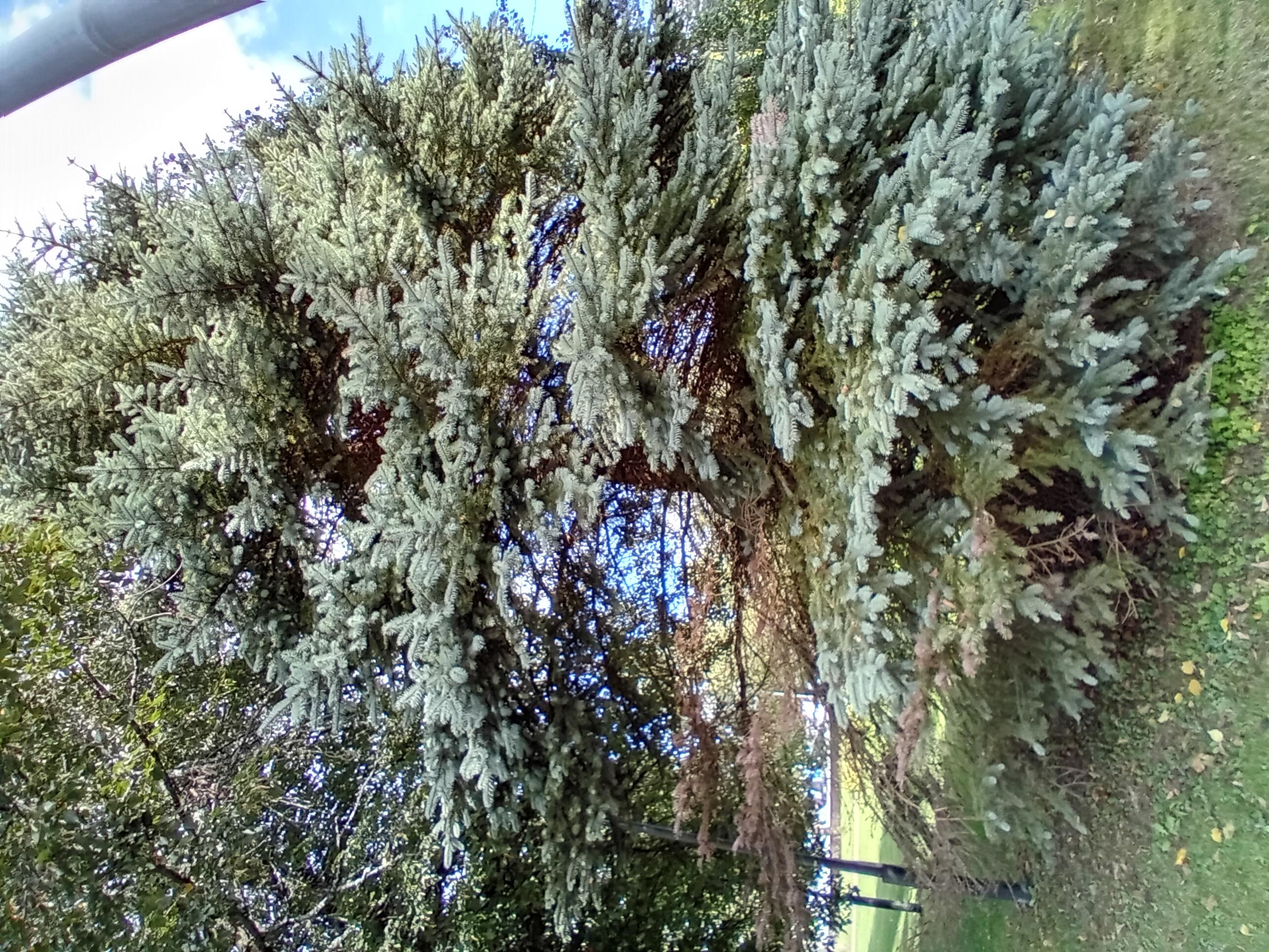Spruce: (22, 1, 1266, 941), (236, 8, 1269, 952)
